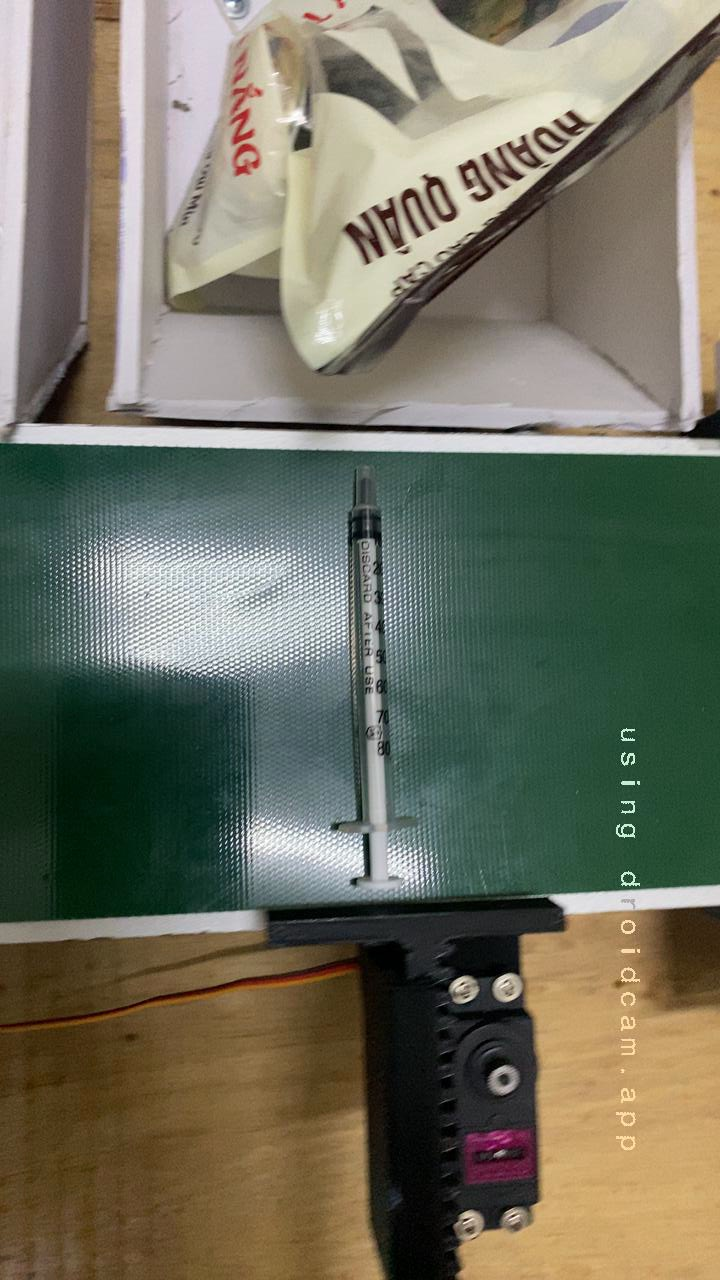syringe: (302, 491, 427, 844)
